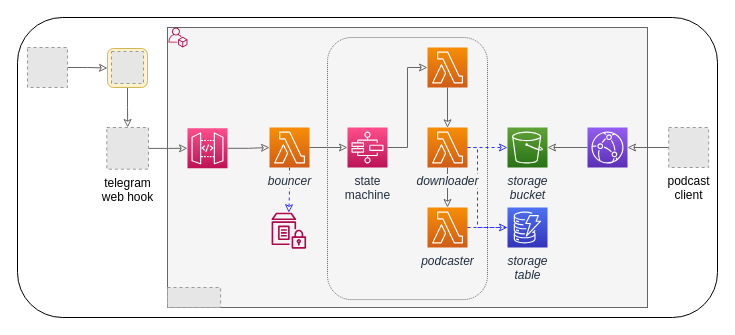
Some shapes in this 735 by 335 pixel diagram are drawn without their labels. Grey dashed boxes stand in for pictures. The shapes that lost their labels are listed below. From the top down, each one's centre as x and y in pixels, then its label:
At [447,67]: "dispatcher".
At [207,147]: "API".
At [607,147]: "cloudfront".
At [288,230]: "parameter store".
